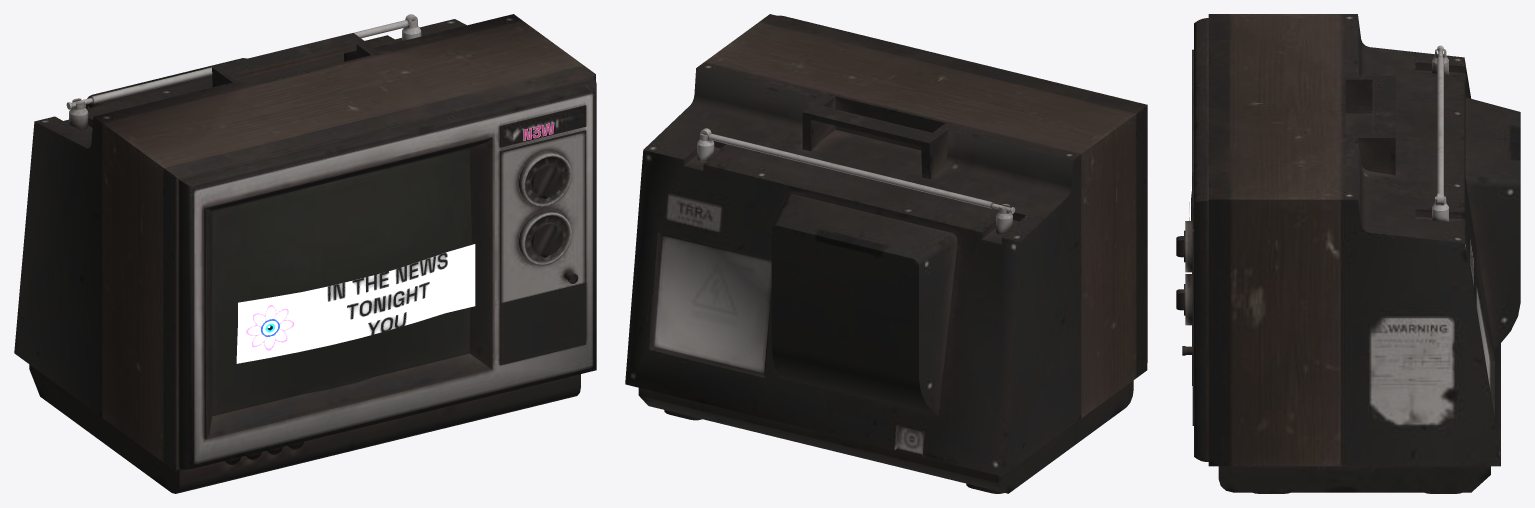
The model's file is nyb_sweet_tv.glb.
3 views of the same model, side by side, from view 1: azimuth 30°, elevation 25°; view 2: azimuth 150°, elevation 25°; view 3: azimuth 270°, elevation 25° (orthographic). The views are drawn at different scales.
Parts seen in each view (by area): view 1: Television_01, stk_lbl_ea83e0d9e9.png; view 2: Television_01; view 3: Television_01.
Boxes of the visible parts, box(x1,y1,x2,y2) form: Television_01: box(14, 14, 596, 493); stk_lbl_ea83e0d9e9.png: box(236, 244, 475, 363); Television_01: box(625, 14, 1147, 493); Television_01: box(1176, 14, 1520, 493).
Size of the model in its own units: 0.6 by 0.4568 by 0.4708.
3 materials, 3 textured.
